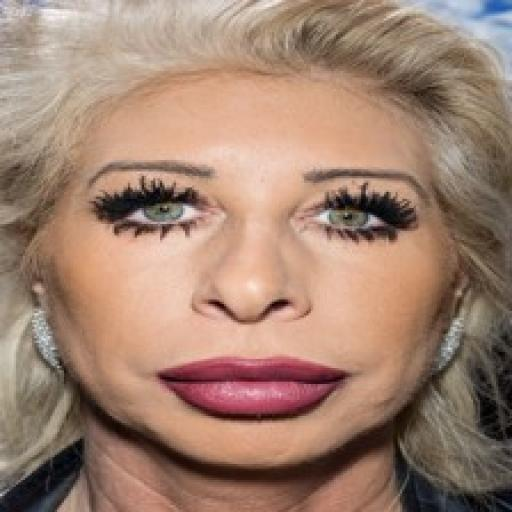human: (1, 1, 511, 512)
